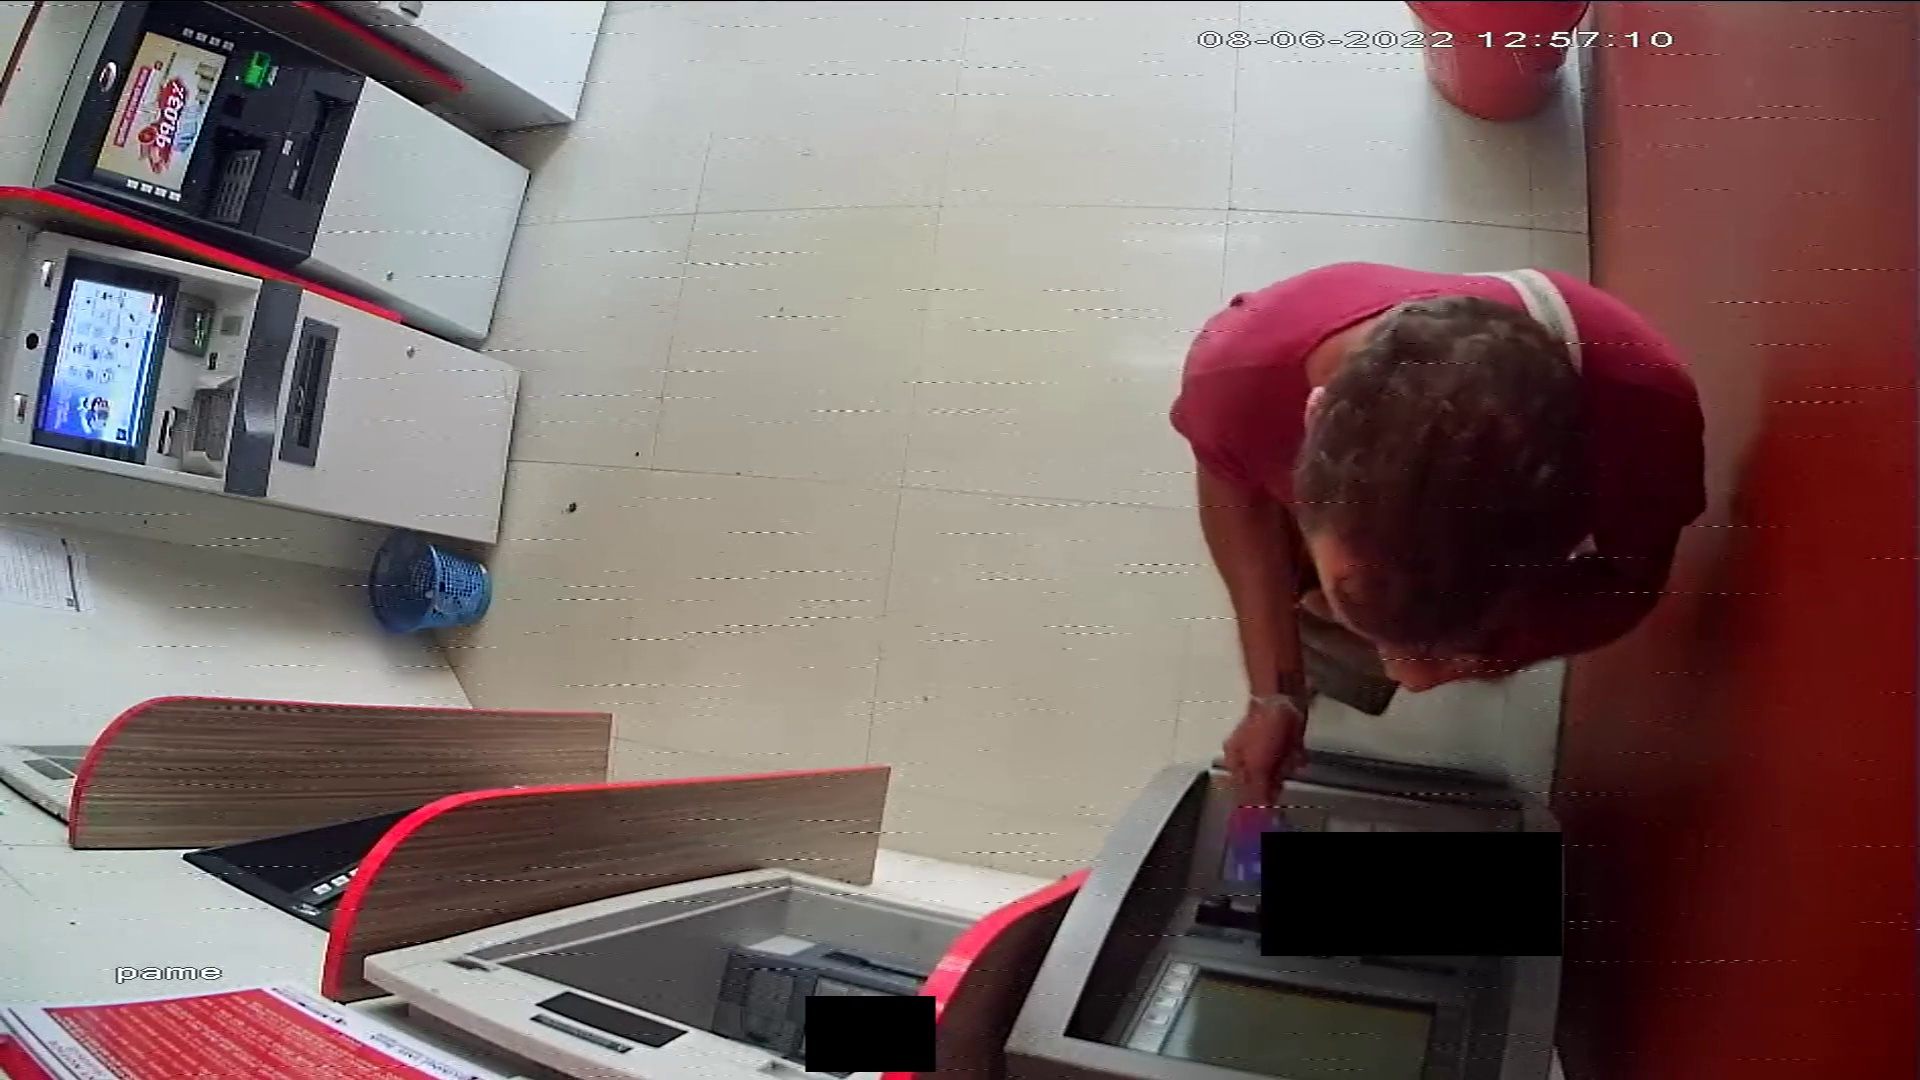person: (1169, 260, 1704, 805)
